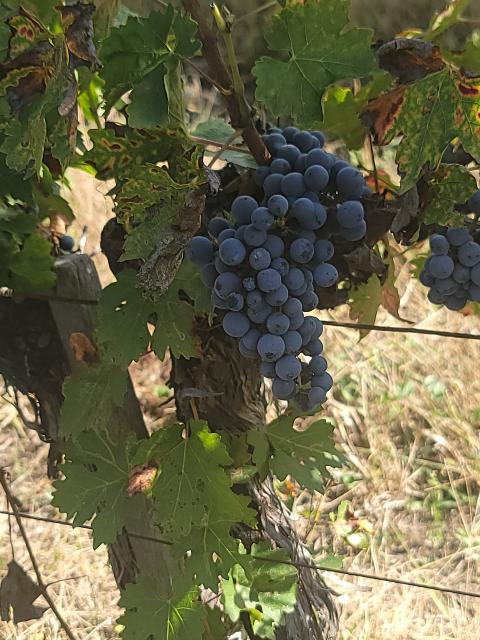grapes: (185, 195, 338, 411), (255, 126, 370, 240), (420, 226, 480, 311)
